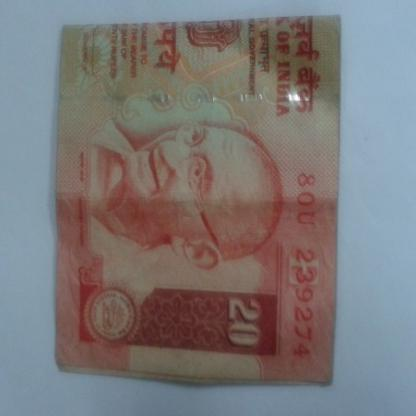Old20Front: (58, 24, 334, 377)
